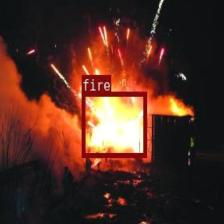fire: (81, 91, 146, 156)
